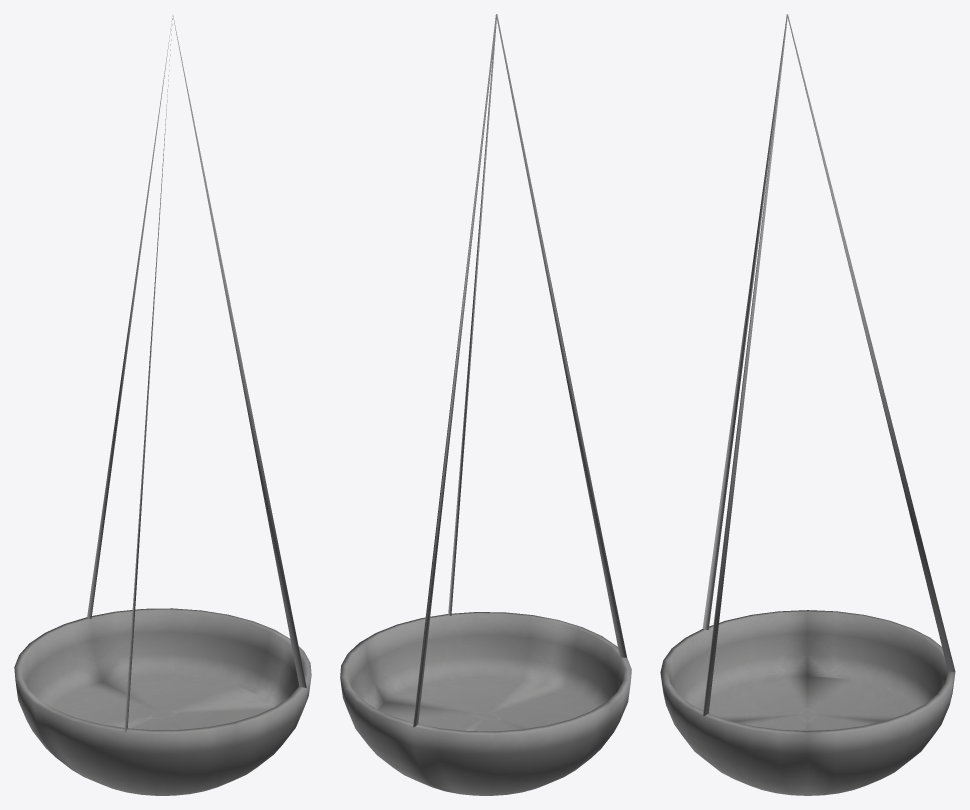
The model's file is Hanging Fire Brasier.fbx.
3 views of the same model, side by side, from view 1: azimuth 30°, elevation 25°; view 2: azimuth 150°, elevation 25°; view 3: azimuth 270°, elevation 25° (orthographic).
Parts seen in each view (by area): view 1: Brasier, Chains; view 2: Brasier, Chains; view 3: Brasier, Chains.
Boxes of the visible parts, left/top/right/bottom form: Brasier: left=14, top=608, right=311, bottom=795; Chains: left=87, top=14, right=306, bottom=732; Brasier: left=340, top=612, right=631, bottom=795; Chains: left=413, top=14, right=626, bottom=727; Brasier: left=660, top=610, right=955, bottom=795; Chains: left=702, top=14, right=955, bottom=716.
Bounding box in the file's own units: 200 × 572 × 200.
2 materials, 2 textured.
